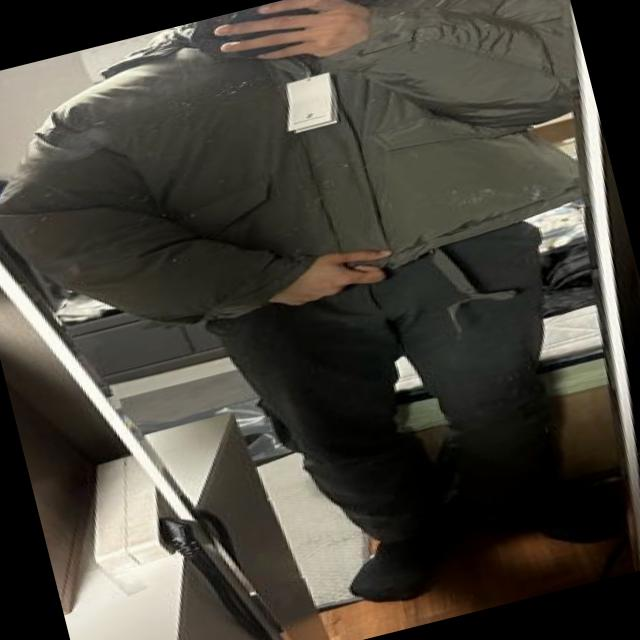padding: (0, 0, 624, 364)
slacks: (210, 210, 598, 574)
